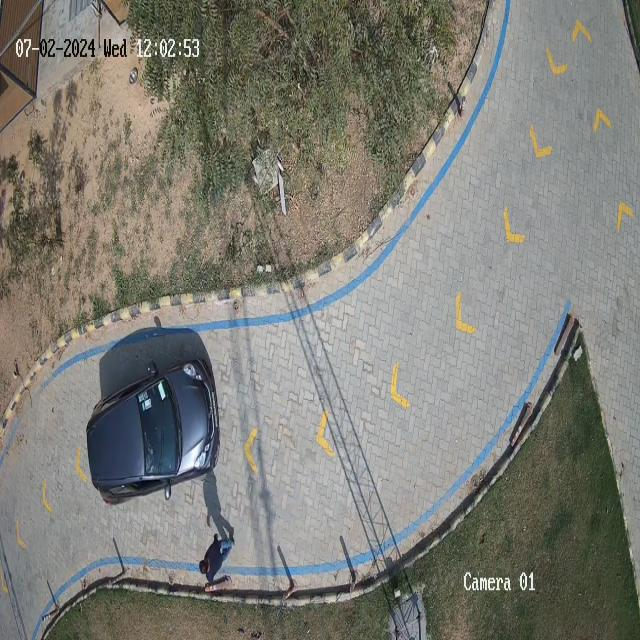car: (85, 357, 222, 509)
